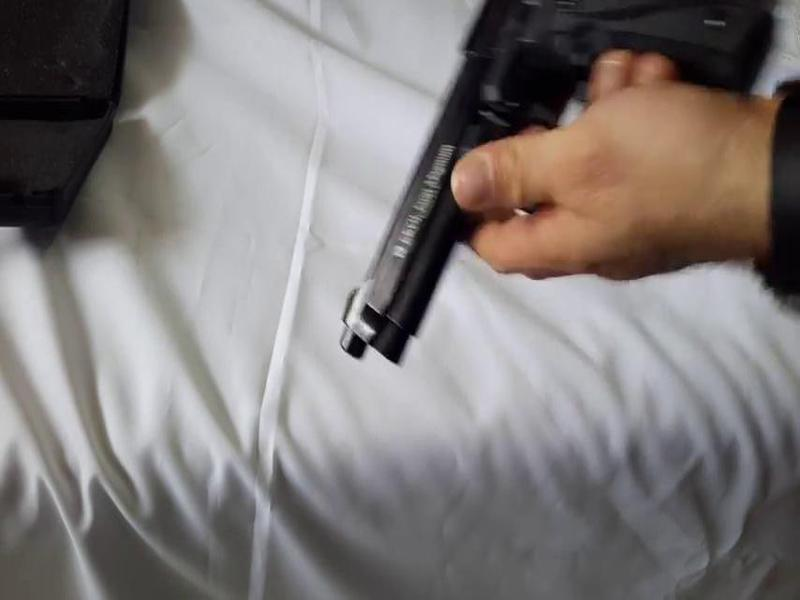Pistola: (318, 1, 749, 371)
